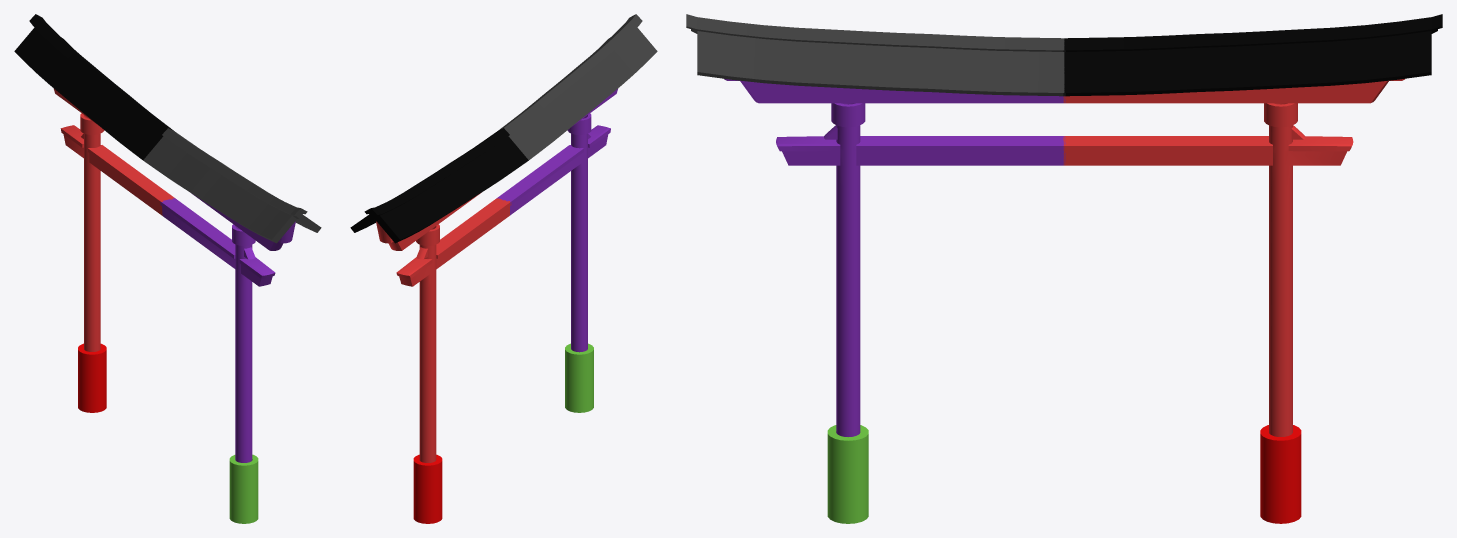
Rendered from Torii.FBX.
3 views of the same model, side by side, from view 1: azimuth 30°, elevation 25°; view 2: azimuth 150°, elevation 25°; view 3: azimuth 270°, elevation 25° (orthographic). The views are drawn at different scales.
Visible parts, largest first — view 1: Cubierta, Base2, Cubierta2, Base, Soporte2, Soporte; view 2: Cubierta2, Base, Cubierta, Base2, Soporte, Soporte2; view 3: Cubierta2, Cubierta, Base2, Base, Soporte2, Soporte.
Part boxes in pixels (box(x1,y1,x2,y2)): Cubierta: box(14, 14, 173, 159); Base2: box(160, 193, 295, 462); Cubierta2: box(143, 128, 321, 243); Base: box(53, 88, 175, 351); Soporte2: box(229, 454, 258, 523); Soporte: box(78, 343, 106, 412); Cubierta2: box(498, 14, 657, 159); Base: box(376, 193, 511, 462); Cubierta: box(350, 128, 528, 243); Base2: box(496, 88, 618, 352); Soporte: box(413, 454, 442, 523); Soporte2: box(565, 343, 593, 412); Cubierta2: box(686, 14, 1065, 96); Cubierta: box(1063, 14, 1442, 96); Base2: box(724, 79, 1065, 436); Base: box(1063, 79, 1404, 436); Soporte2: box(827, 425, 868, 523); Soporte: box(1260, 425, 1301, 523).
Size of the model in its own units: 66.86 by 449 by 615.
